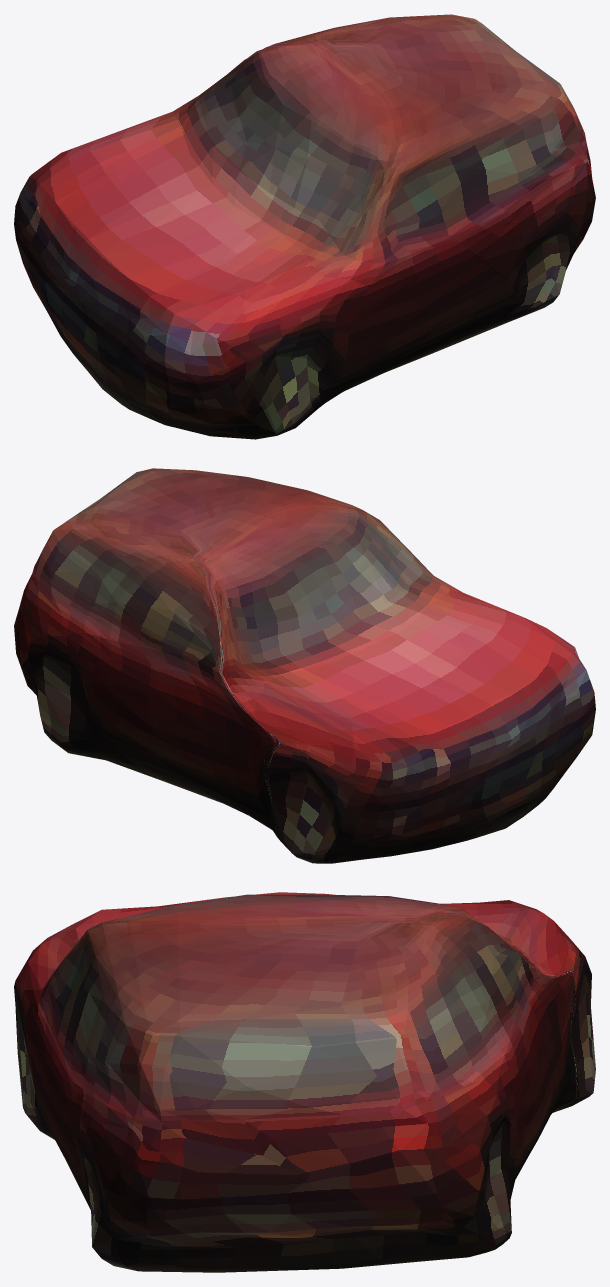
The model's file is video3_258.obj.
3 renders of one model, top to bottom at view 1: azimuth 30°, elevation 25°; view 2: azimuth 150°, elevation 25°; view 3: azimuth 270°, elevation 25°, orthographic. The views are drawn at different scales.
Size of the model in its own units: 1 by 0.5176 by 0.8096.
Materials: 1 (1 with a texture image).
